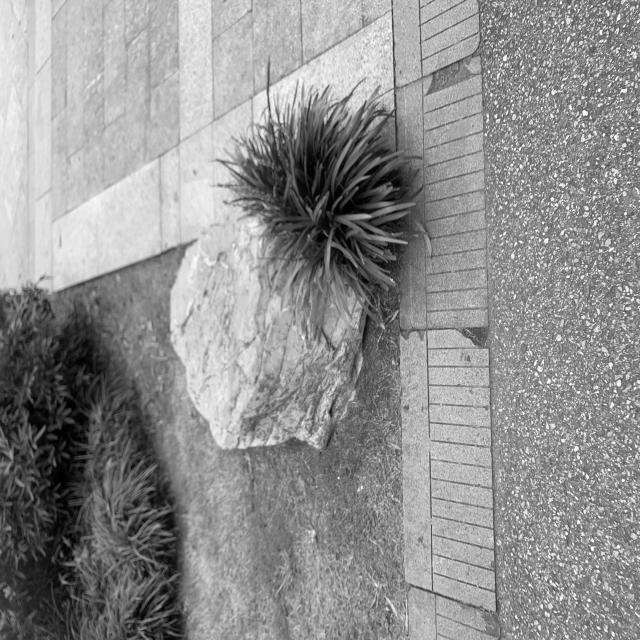Stone: (170, 219, 362, 449)
